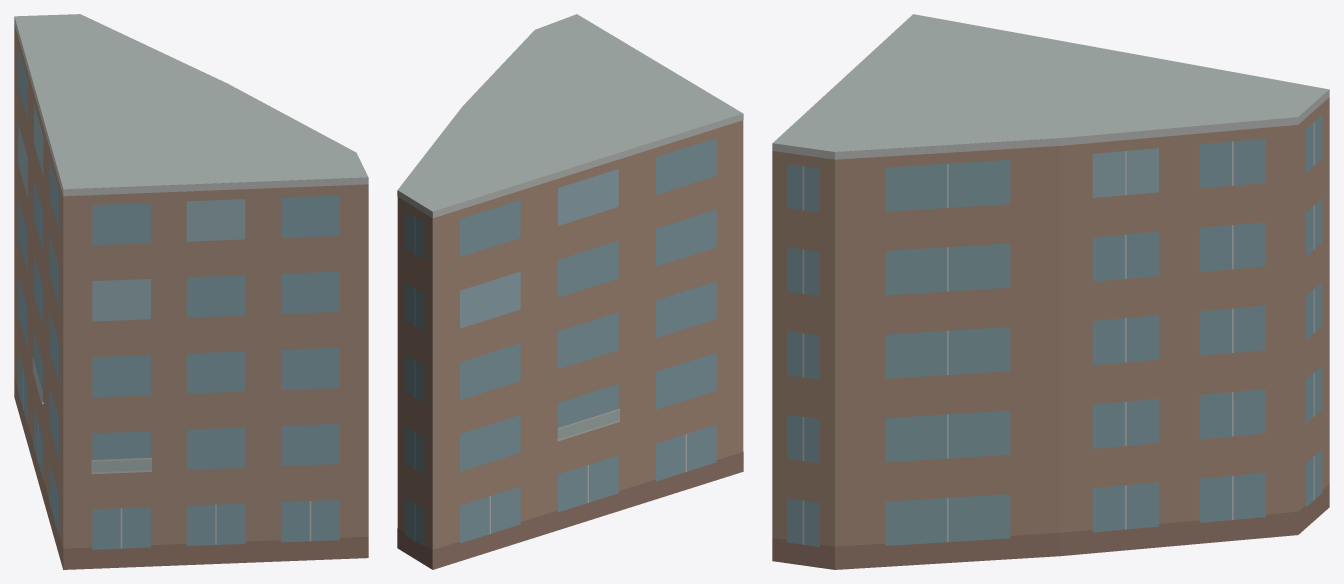
The model's file is survey-upis-32523752.glb.
3 renders of one model, left to right at view 1: azimuth 30°, elevation 25°; view 2: azimuth 150°, elevation 25°; view 3: azimuth 270°, elevation 25°, orthographic. The views are drawn at different scales.
Visible parts, largest first — view 1: survey-upis-32523752.tmp; view 2: survey-upis-32523752.tmp; view 3: survey-upis-32523752.tmp.
Boxes of the visible parts, left/top/right/bottom form: survey-upis-32523752.tmp: left=14, top=14, right=368, bottom=569; survey-upis-32523752.tmp: left=397, top=14, right=743, bottom=569; survey-upis-32523752.tmp: left=772, top=14, right=1329, bottom=569.
Bounding box in the file's own units: 9.43 × 13.3 × 16.08.
